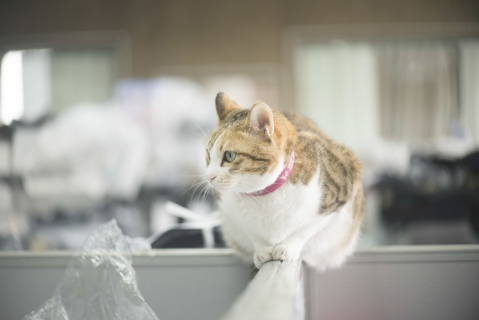Cat: (178, 91, 361, 274)
